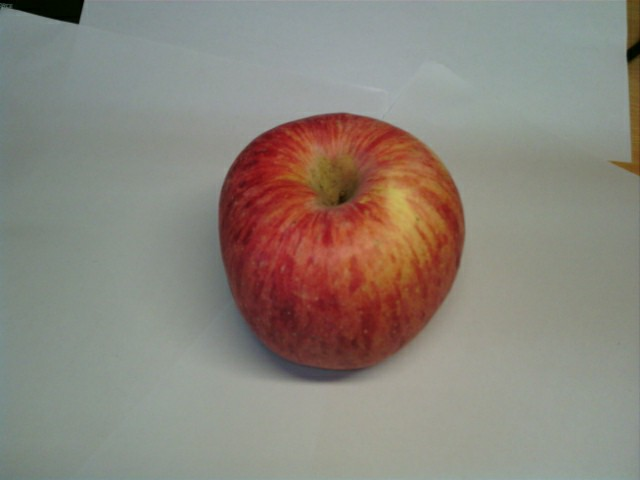normal_apple: (216, 111, 467, 372)
